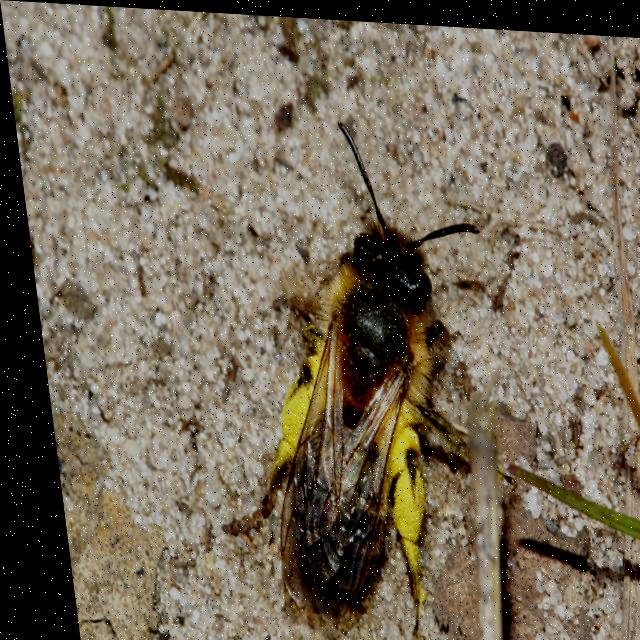Allodapula: (176, 80, 504, 640)
